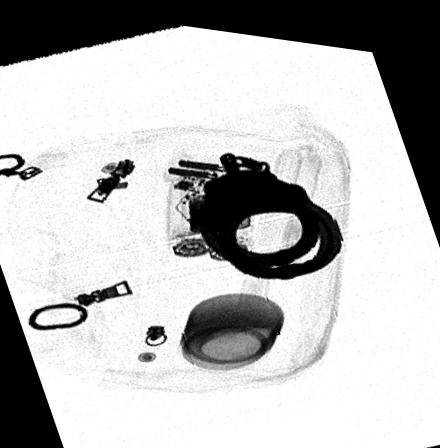HandCuffs: (188, 145, 344, 272)
